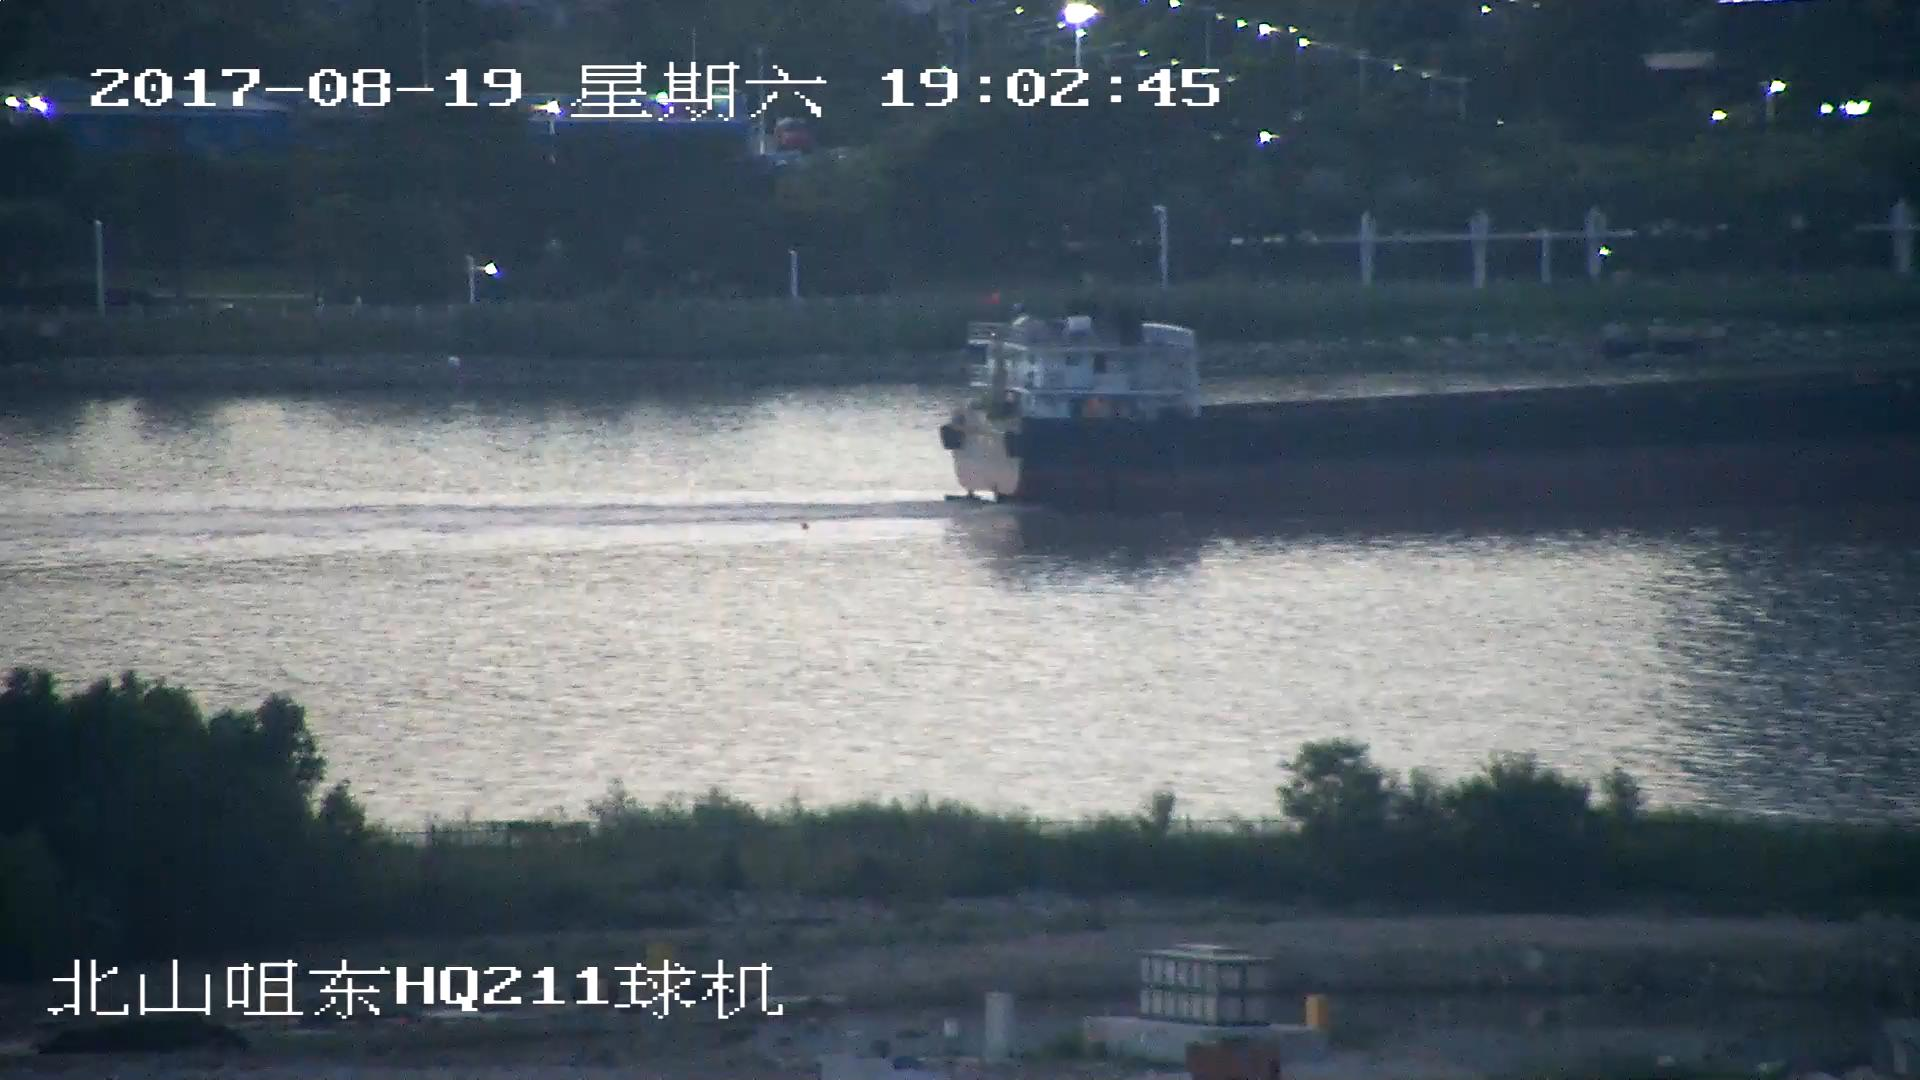general cargo ship: (945, 317, 1920, 521)
